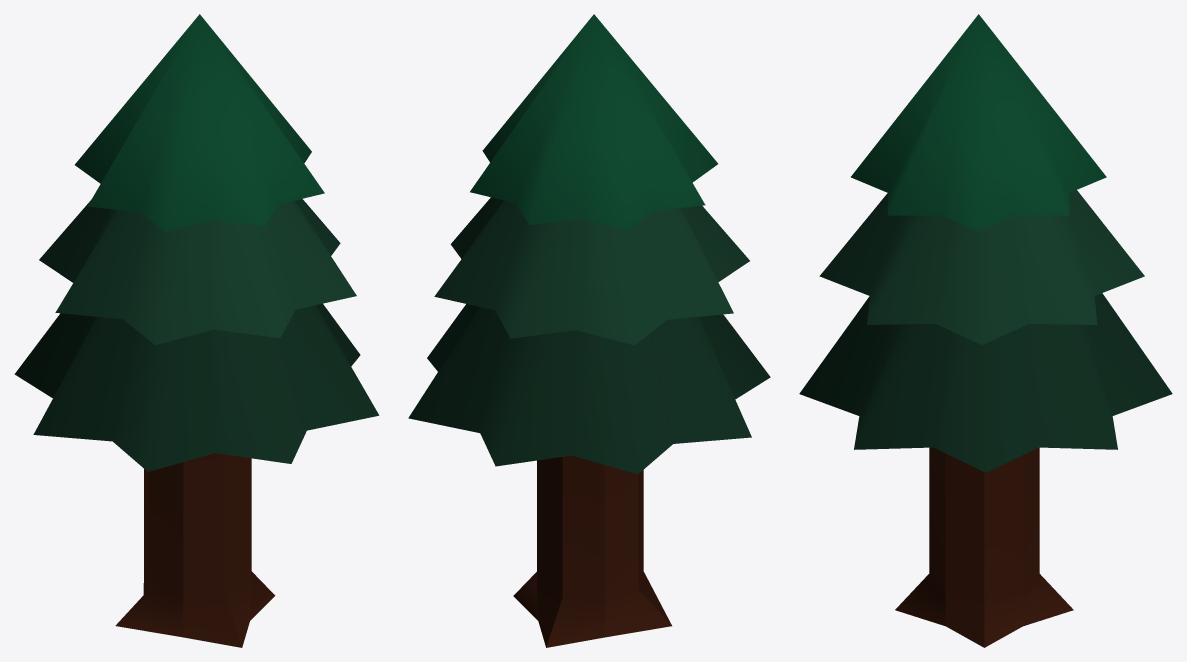
Rendered from F.arvore3.fbx.
3 renders of one model, left to right at view 1: azimuth 30°, elevation 25°; view 2: azimuth 150°, elevation 25°; view 3: azimuth 270°, elevation 25°, orthographic.
Parts seen in each view (by area): view 1: pasted__pasted__pasted__pCone2; view 2: pasted__pasted__pasted__pCone2; view 3: pasted__pasted__pasted__pCone2.
Part boxes in pixels (x1=…): pasted__pasted__pasted__pCone2: x1=14, y1=14, x2=379, y2=647; pasted__pasted__pasted__pCone2: x1=408, y1=14, x2=770, y2=647; pasted__pasted__pasted__pCone2: x1=799, y1=14, x2=1172, y2=647.
Size of the model in its own units: 3.65 by 6.42 by 3.65.
